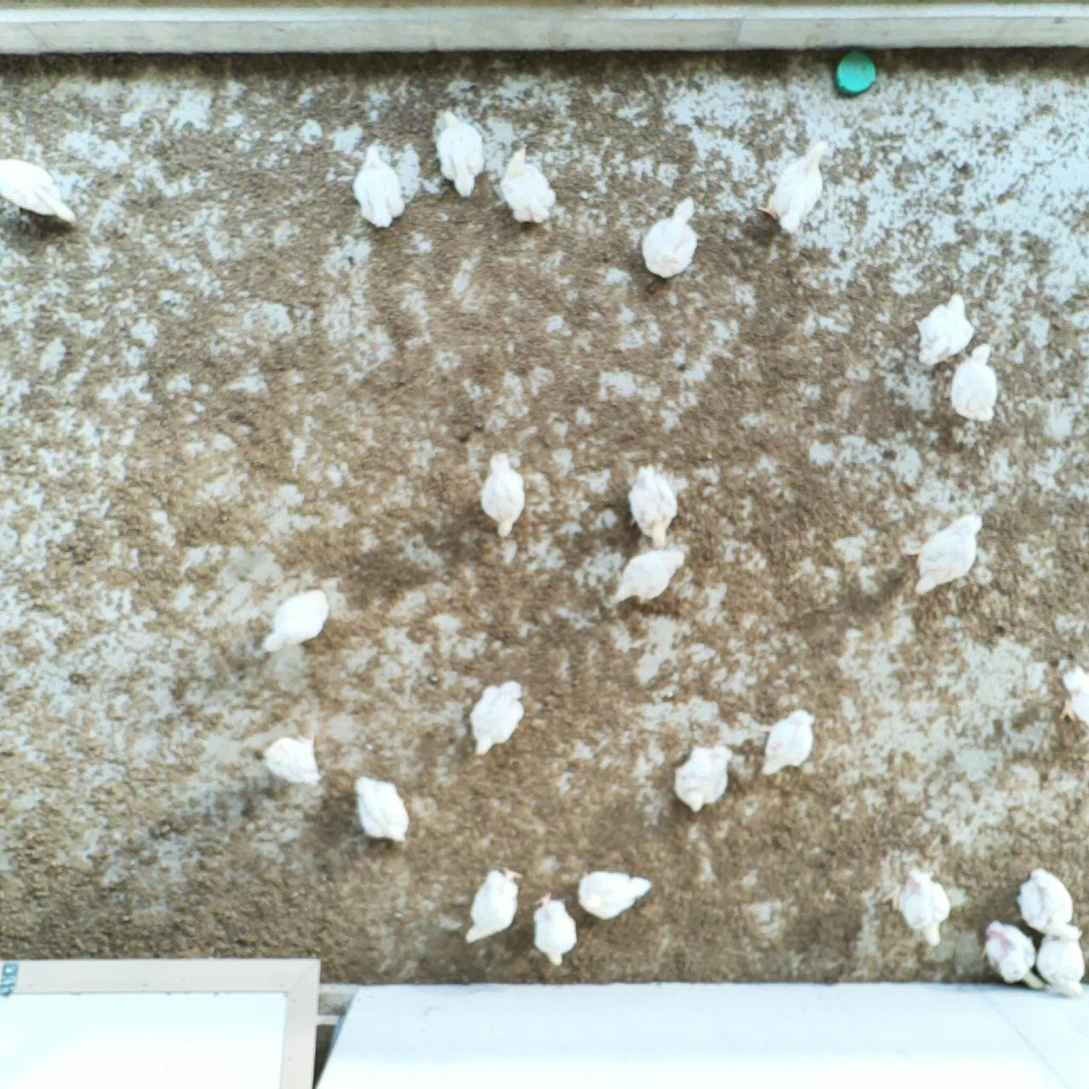chicken: (913, 509, 989, 601), (758, 140, 831, 233), (0, 150, 79, 229), (639, 191, 702, 286), (881, 863, 952, 946), (609, 540, 698, 605), (1012, 866, 1083, 946), (349, 141, 411, 232), (463, 675, 527, 763), (459, 864, 526, 946), (347, 772, 419, 848), (976, 914, 1045, 993), (913, 286, 975, 372), (500, 142, 561, 227), (436, 109, 490, 203), (258, 585, 330, 654), (948, 338, 1003, 425), (627, 460, 680, 548), (1029, 917, 1089, 993), (757, 704, 817, 780), (672, 743, 736, 814), (481, 447, 529, 540), (576, 867, 653, 924), (263, 730, 327, 789), (531, 891, 582, 960), (1053, 662, 1089, 735)
